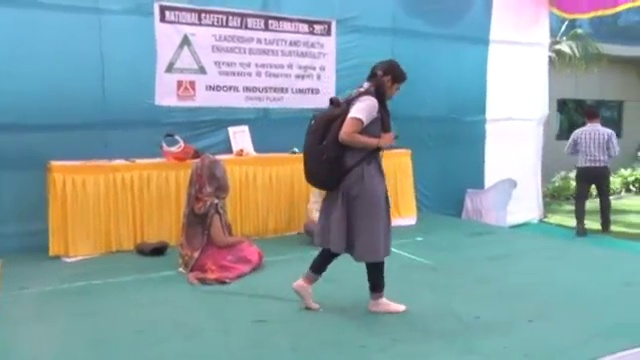helmet_off: (187, 157, 229, 199), (366, 59, 405, 100), (583, 102, 604, 125)
person: (296, 60, 407, 315), (178, 155, 264, 287), (561, 102, 620, 236)
